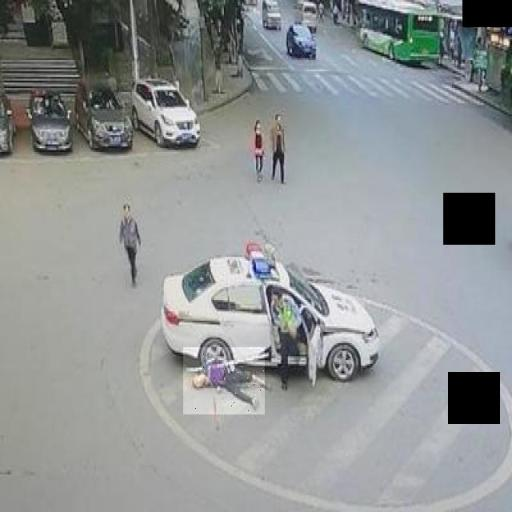Fall: (183, 348, 265, 415)
